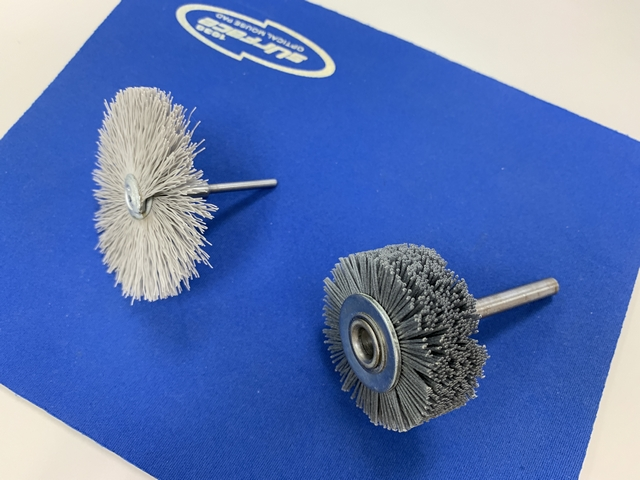TOOL: (82, 77, 291, 313)
Wheel Brush: (314, 228, 575, 433)
